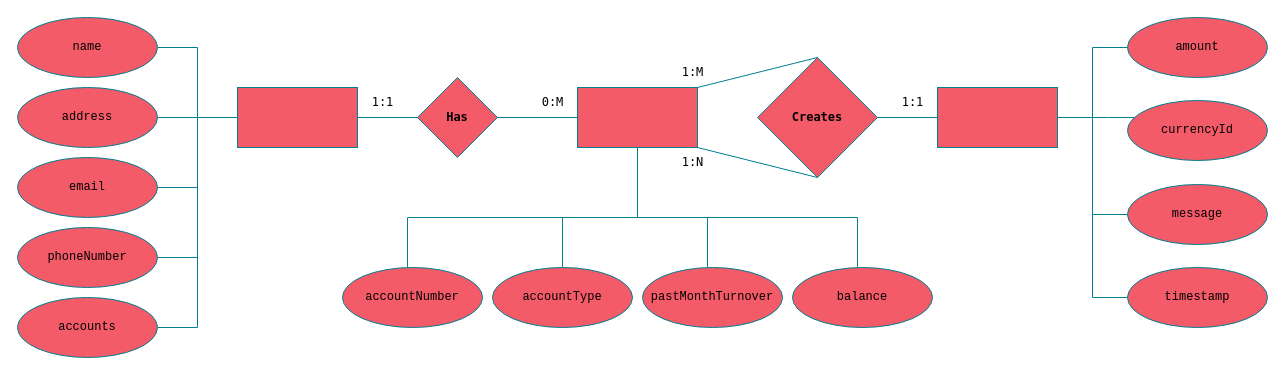
The diagram is 1285 pixels wide and 375 high, and some of its shapes have lost their labels. The centre of each missing label's shape, as x and y in pixels:
"Account" belongs at point 637,117.
"Customer" belongs at point 297,117.
"Transaction" belongs at point 997,117.
